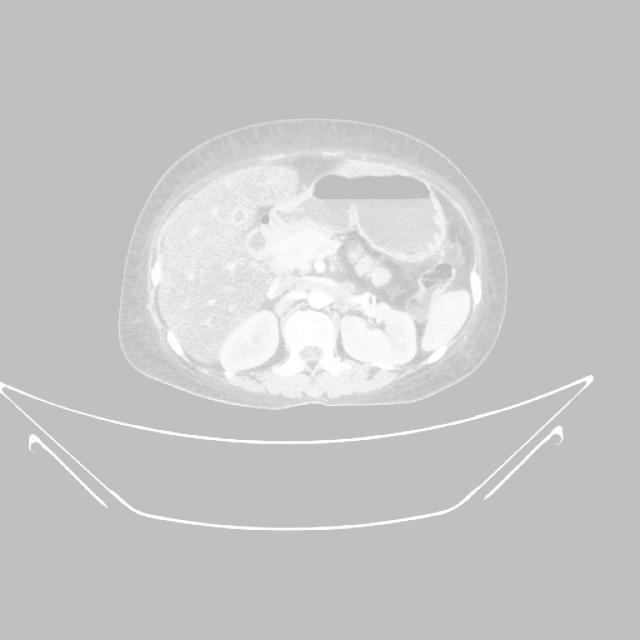NORMAL: (98, 125, 506, 416)
